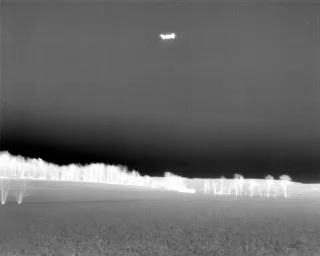DRONE: (156, 28, 180, 46)
